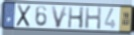4: (104, 7, 118, 31)
6: (34, 5, 48, 28)
H: (85, 6, 103, 31), (67, 6, 85, 30)
V: (50, 5, 68, 29)
X: (15, 4, 33, 28)
